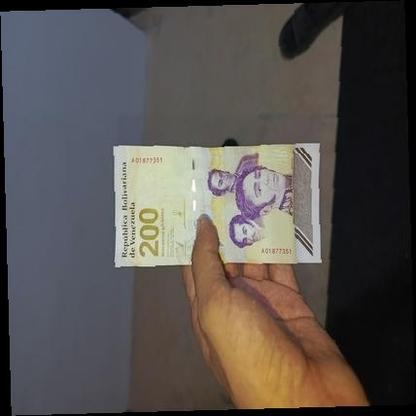two_hundred-front-vef: (112, 143, 321, 268)
